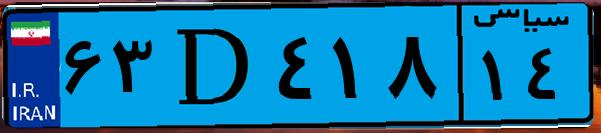1: (330, 28, 385, 110), (475, 38, 525, 113)
3: (110, 28, 158, 98)
4: (270, 28, 330, 110), (525, 38, 570, 115)
6: (57, 26, 110, 100)
8: (385, 28, 445, 110)
D: (158, 12, 270, 120)
